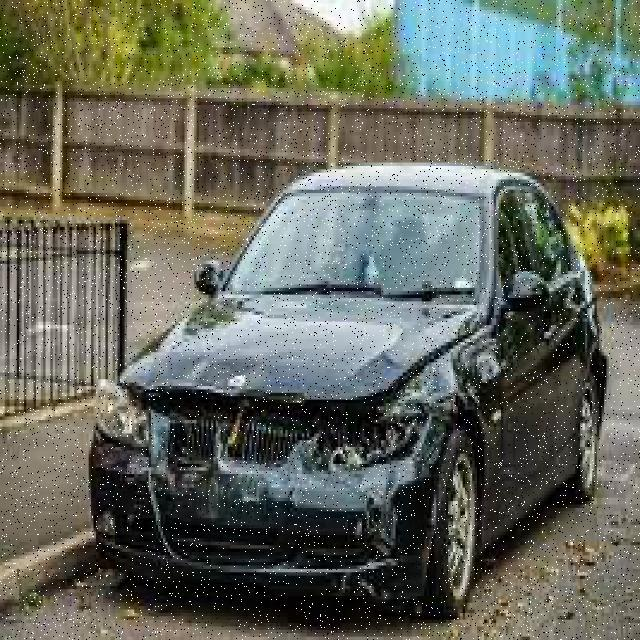bonnet-dent: (120, 291, 477, 409)
front-bumper-dent: (87, 437, 432, 582)
